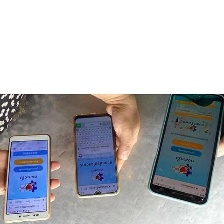phone: (143, 86, 224, 211), (69, 109, 123, 201), (2, 132, 52, 224)
